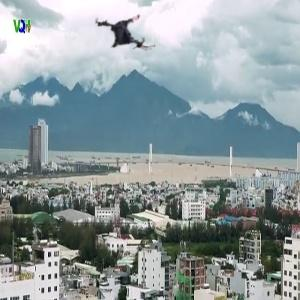drone: (93, 2, 158, 67)
